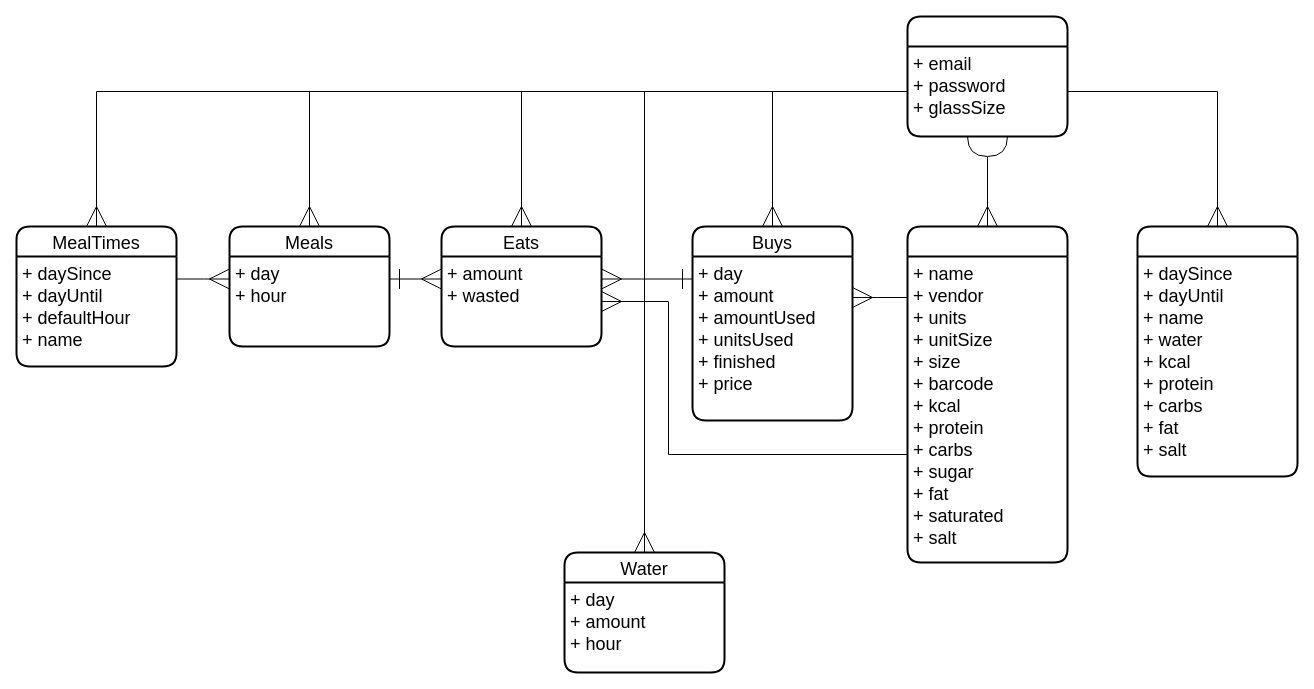
The diagram is 1314 pixels wide and 689 high, and some of its shapes have lost their labels. Each missing label, with the box of its shape:
Goals: (1136, 225, 1298, 477)
Products: (906, 225, 1068, 563)
Users: (906, 15, 1068, 137)
